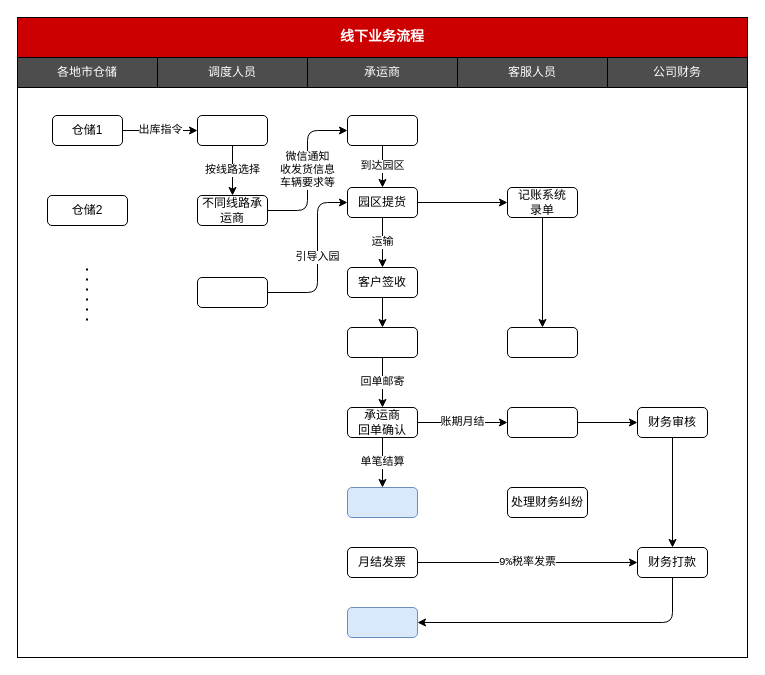
This 765x675 diagram has some shape labels left out. Here are the shapes that lost their labels. From the top down, the centre of each, then its label:
the point at 232,130: 调度员接收
the point at 382,130: 选择司机
the point at 232,292: 发货
the point at 382,342: 司机回单
the point at 542,342: 回单上传
the point at 542,422: 对账结算
the point at 382,502: 司机收款
the point at 382,622: 承运商收款
